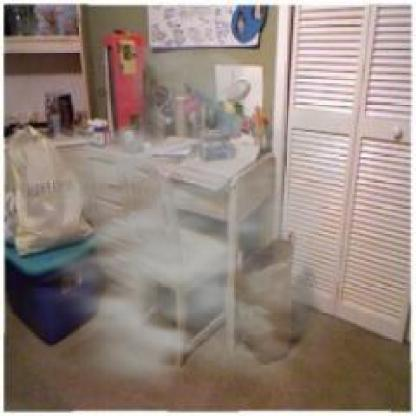Smoke: (21, 47, 390, 412)
